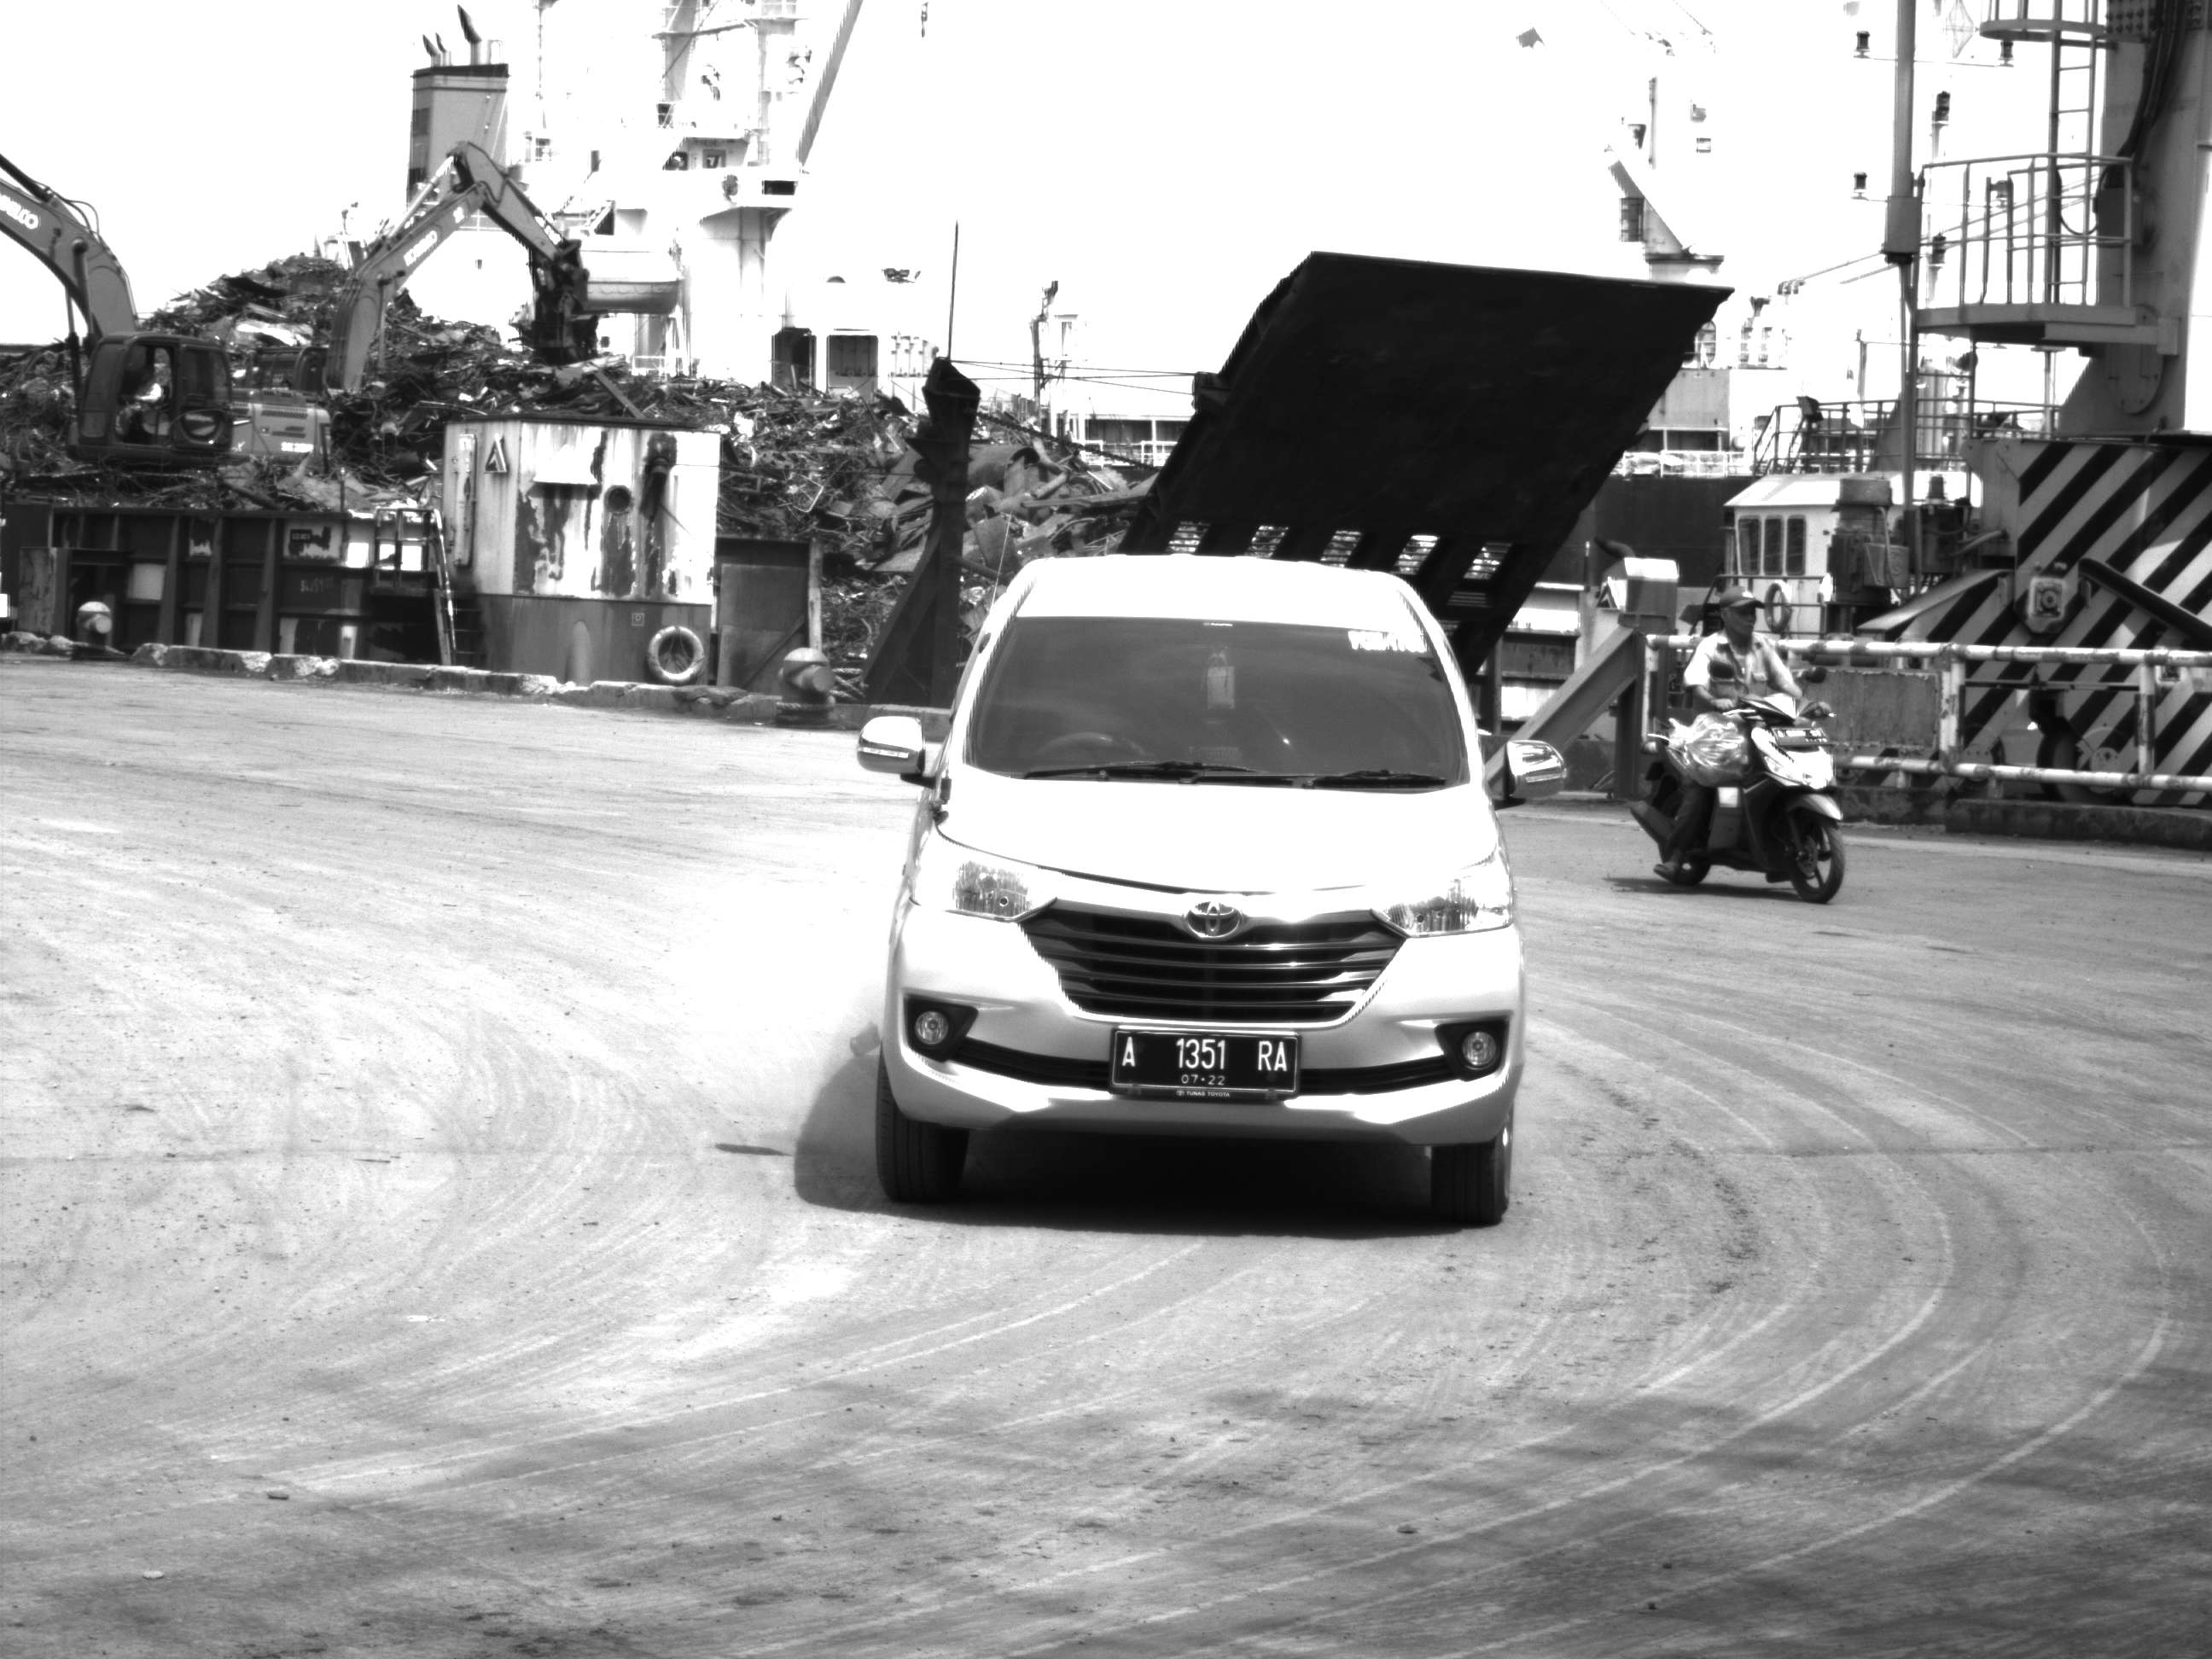car: (856, 540, 1544, 1255)
motor_bike: (1618, 684, 1859, 905)
person: (1662, 576, 1848, 691)
